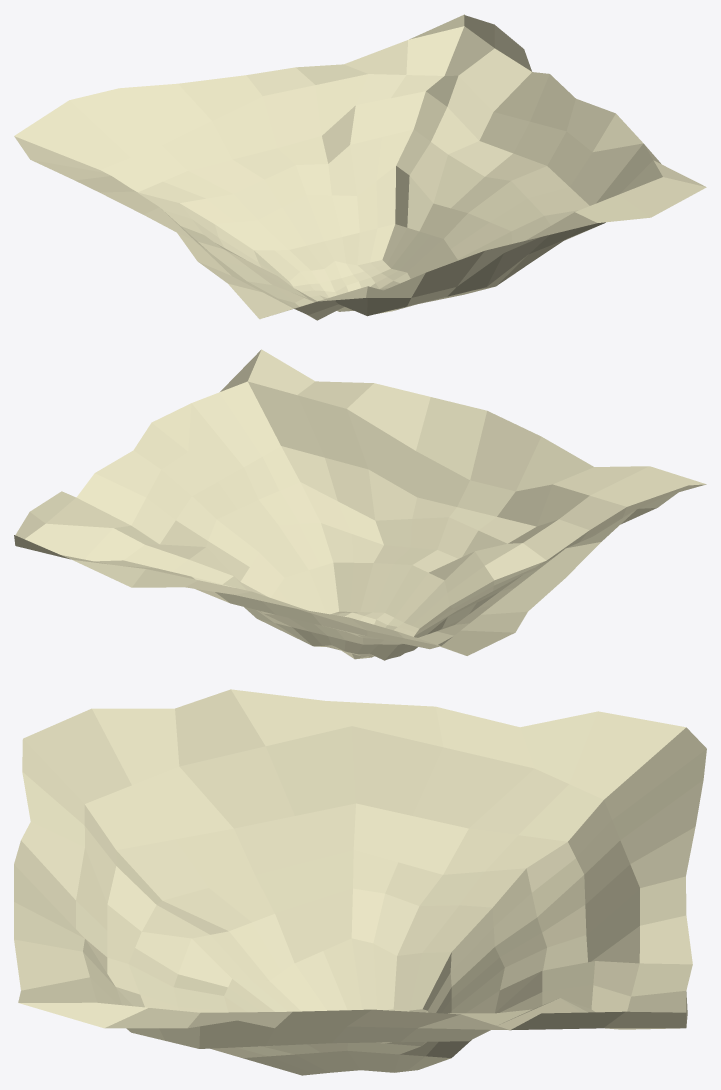
3 views of the same model, one above another, from view 1: azimuth 30°, elevation 25°; view 2: azimuth 150°, elevation 25°; view 3: azimuth 270°, elevation 25° (orthographic). The views are drawn at different scales.
Parts seen in each view (by area): view 1: Plane; view 2: Plane; view 3: Plane.
Boxes of the visible parts, left/top/right/bottom form: Plane: left=14, top=14, right=706, bottom=320; Plane: left=14, top=349, right=706, bottom=660; Plane: left=14, top=689, right=706, bottom=1075.
Bounding box in the file's own units: 2.2 × 0.7142 × 2.03.
